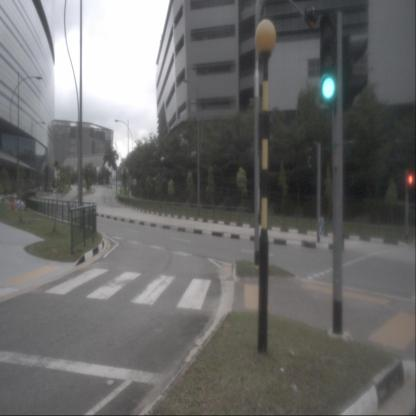cone: (11, 198, 15, 211)
